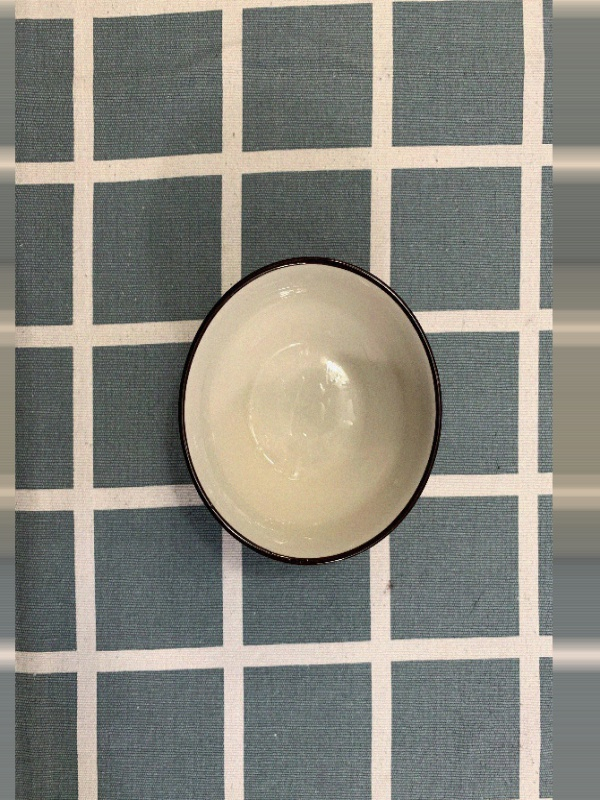bowl_small: (170, 248, 447, 575)
